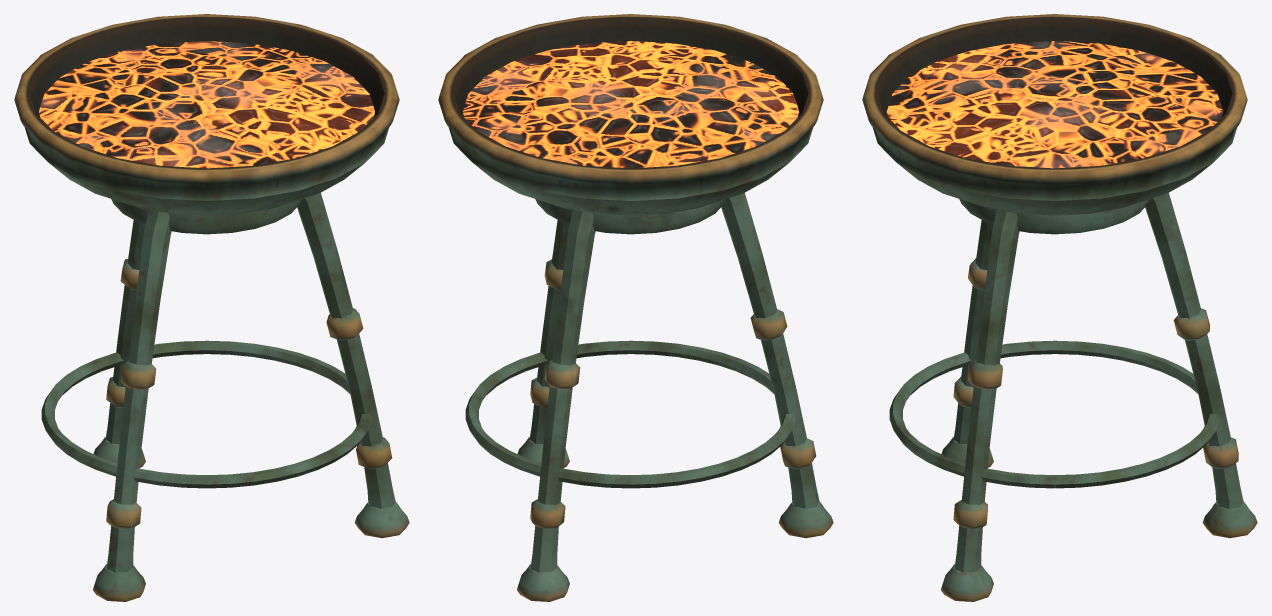
File: brazier.glb
3 views of the same model, side by side, from view 1: azimuth 30°, elevation 25°; view 2: azimuth 150°, elevation 25°; view 3: azimuth 270°, elevation 25° (orthographic).
Visible parts, largest first — view 1: brazier, coals; view 2: brazier, coals; view 3: brazier, coals.
Part boxes in pixels (x1,y1,x2,y2): brazier: [14, 14, 409, 601]; coals: [39, 41, 374, 168]; brazier: [438, 14, 833, 601]; coals: [463, 41, 798, 168]; brazier: [862, 14, 1257, 601]; coals: [886, 41, 1223, 168].
Bounding box in the file's own units: 0.924 × 1.15 × 0.948.
Materials: 2 (2 with a texture image).
